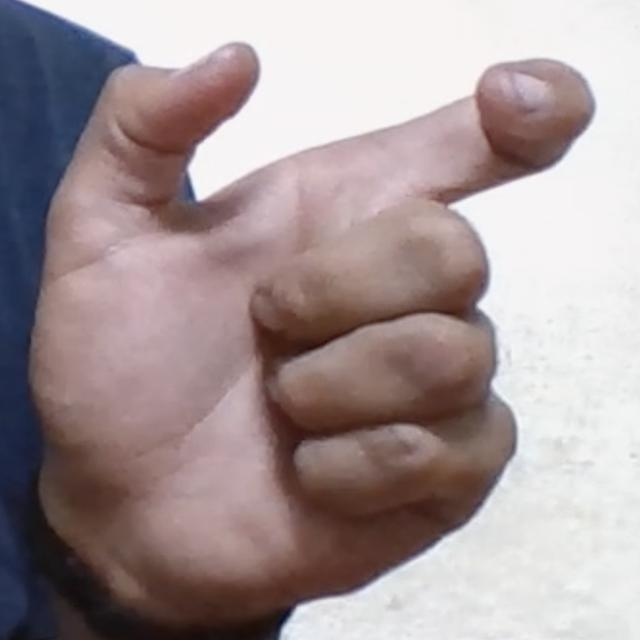Q: (22, 36, 605, 614)
